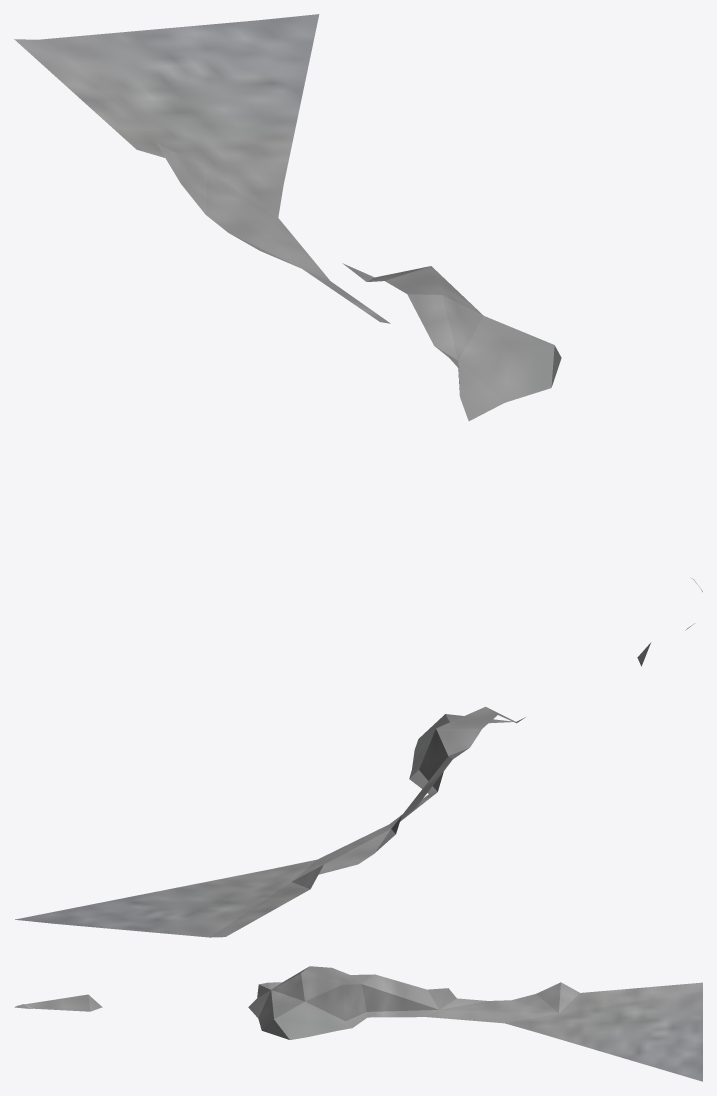
The picture shows the model from 3 angles, top to bottom: view 1: azimuth 30°, elevation 25°; view 2: azimuth 150°, elevation 25°; view 3: azimuth 270°, elevation 25°; orthographic projection. The views are drawn at different scales.
Bounding box in the file's own units: 0.2868 × 0.0738 × 1.12.
1 material, 1 textured.
